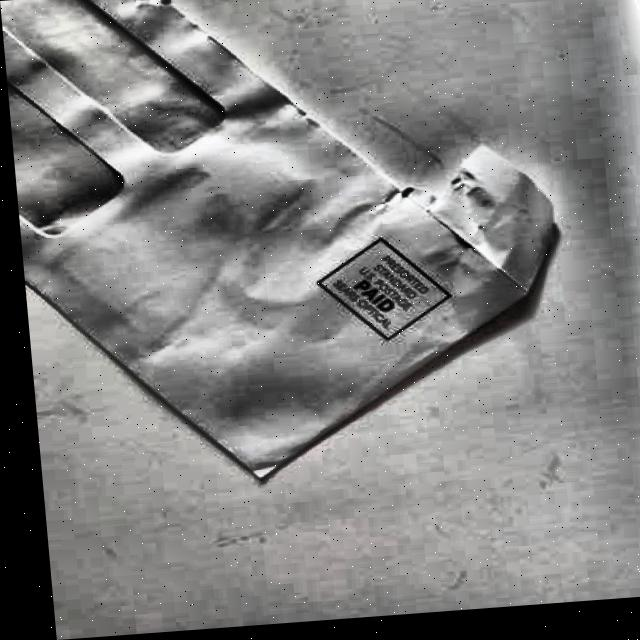paper: (2, 0, 582, 495)
